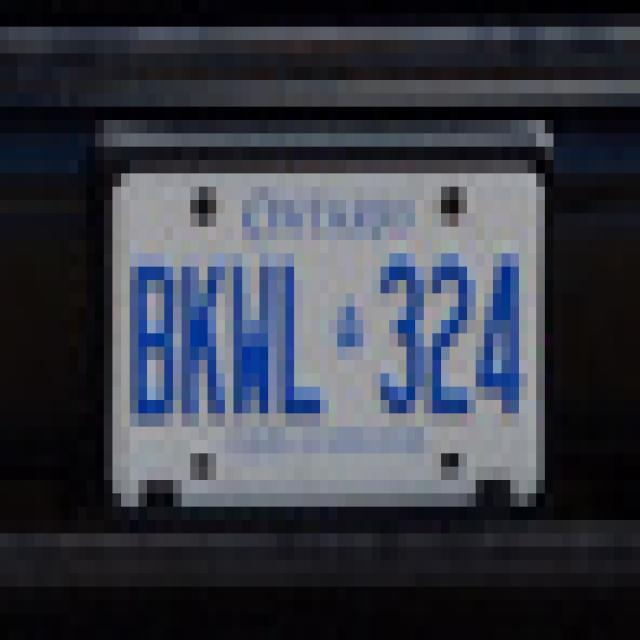3: (372, 242, 428, 427)
4: (477, 240, 528, 427)
B: (128, 248, 178, 426)
K: (175, 245, 229, 430)
L: (279, 242, 329, 424)
W: (224, 243, 278, 428)
